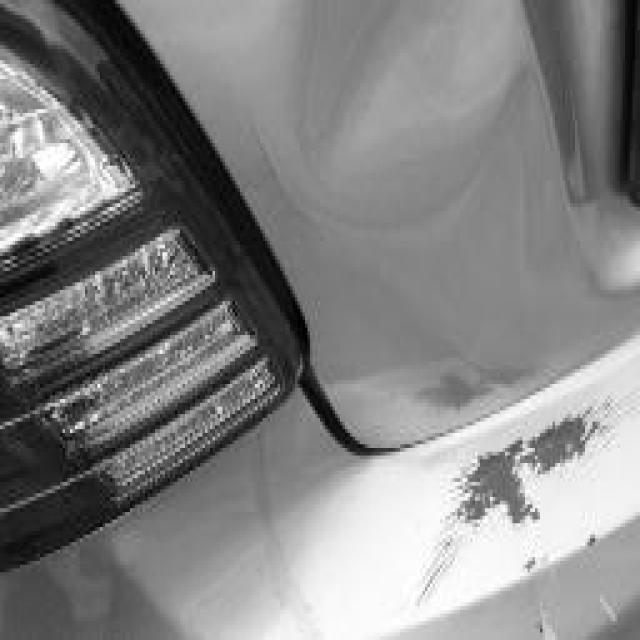Bumper: (418, 414, 640, 636)
Dickey: (240, 4, 640, 346)
